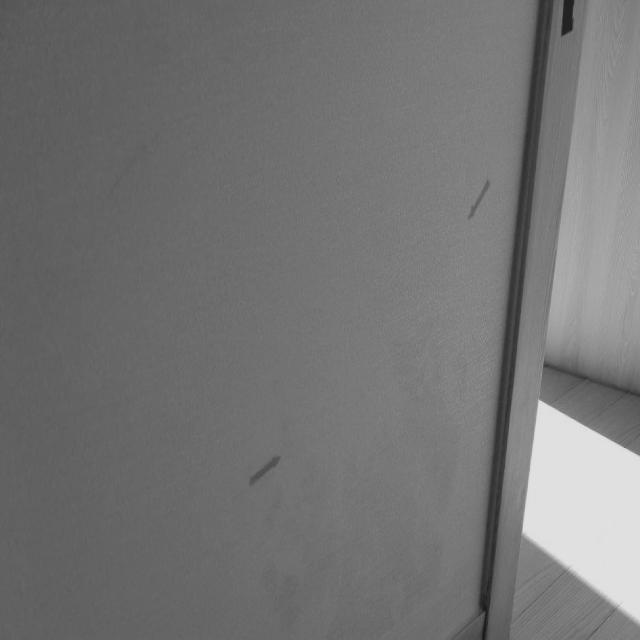stain marks: (264, 299, 484, 629), (90, 98, 168, 232)
